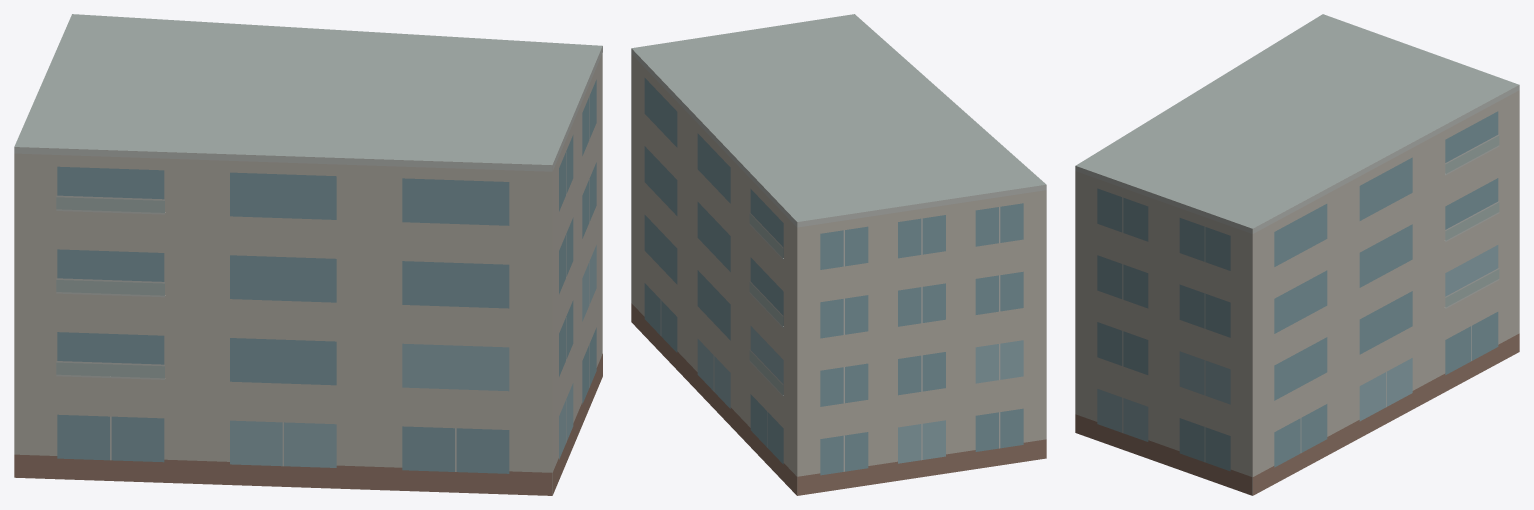
File: survey-upis-32643591.glb
3 renders of one model, left to right at view 1: azimuth 30°, elevation 25°; view 2: azimuth 150°, elevation 25°; view 3: azimuth 270°, elevation 25°, orthographic. The views are drawn at different scales.
Parts seen in each view (by area): view 1: survey-upis-32643591.tmp; view 2: survey-upis-32643591.tmp; view 3: survey-upis-32643591.tmp.
Boxes of the visible parts, x1=… form: survey-upis-32643591.tmp: x1=14, y1=14, x2=602, y2=495; survey-upis-32643591.tmp: x1=631, y1=14, x2=1046, y2=495; survey-upis-32643591.tmp: x1=1075, y1=14, x2=1519, y2=495.
Bounding box in the file's own units: 21.05 × 12.2 × 18.39.
